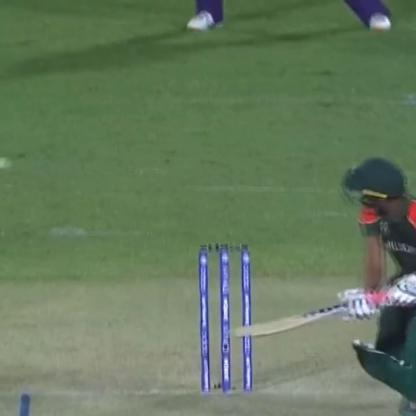ball: (0, 151, 18, 177)
bat: (230, 300, 365, 340)
